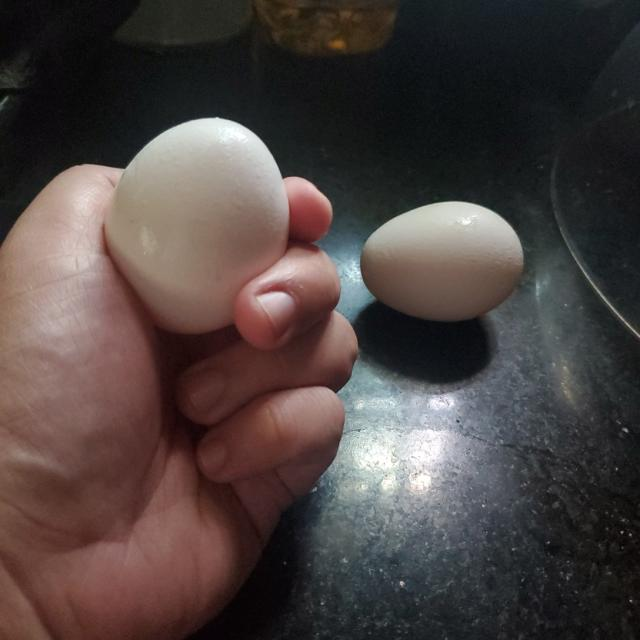egg: (102, 114, 284, 323), (360, 206, 521, 323)
